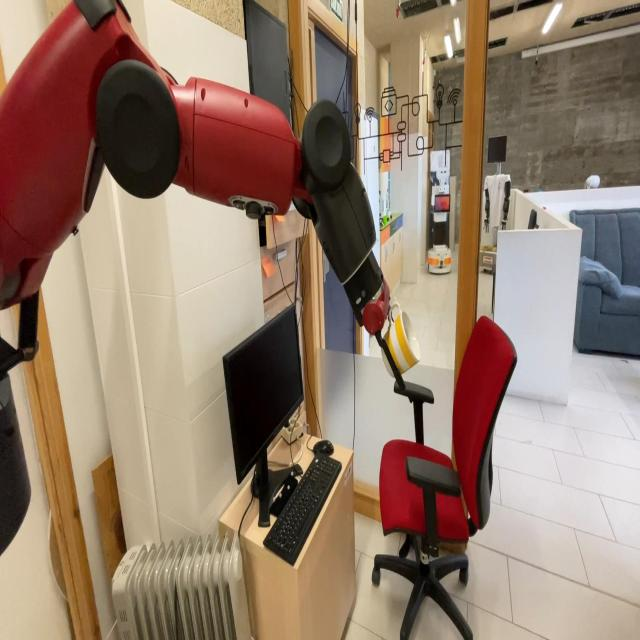cup: (380, 301, 421, 376)
